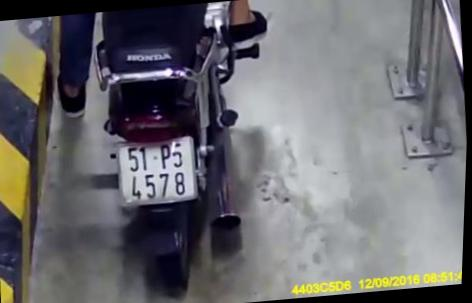LP: (114, 133, 203, 208)
